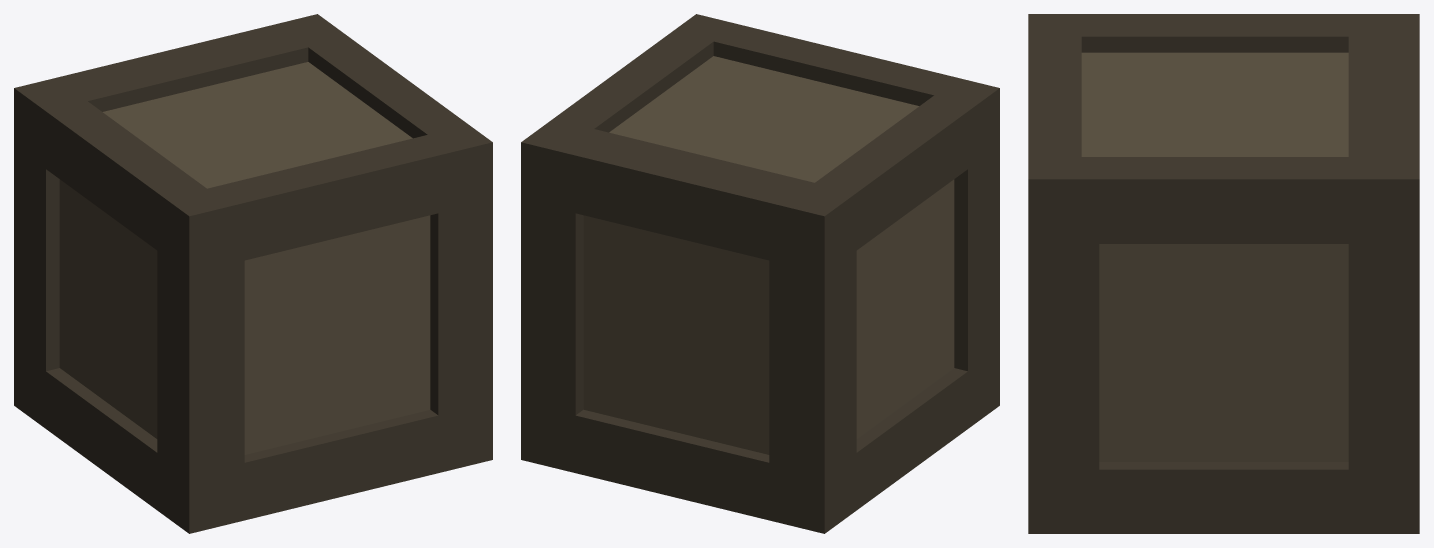
The model's file is pine_wood_crate.glb.
The picture shows the model from 3 angles, left to right: view 1: azimuth 30°, elevation 25°; view 2: azimuth 150°, elevation 25°; view 3: azimuth 270°, elevation 25°; orthographic projection. The views are drawn at different scales.
Visible parts, largest first — view 1: Cube; view 2: Cube; view 3: Cube.
Part boxes in pixels (bbox=[...]): Cube: bbox=[14, 14, 492, 533]; Cube: bbox=[521, 14, 999, 533]; Cube: bbox=[1028, 14, 1419, 533].
Bounding box in the file's own units: 2.2 × 2.2 × 2.2.
1 material, 1 textured.
